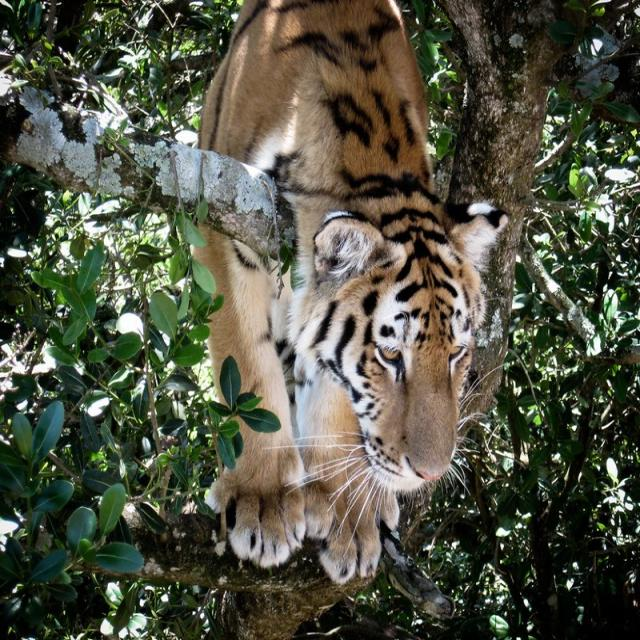Tiger: (191, 0, 505, 578)
